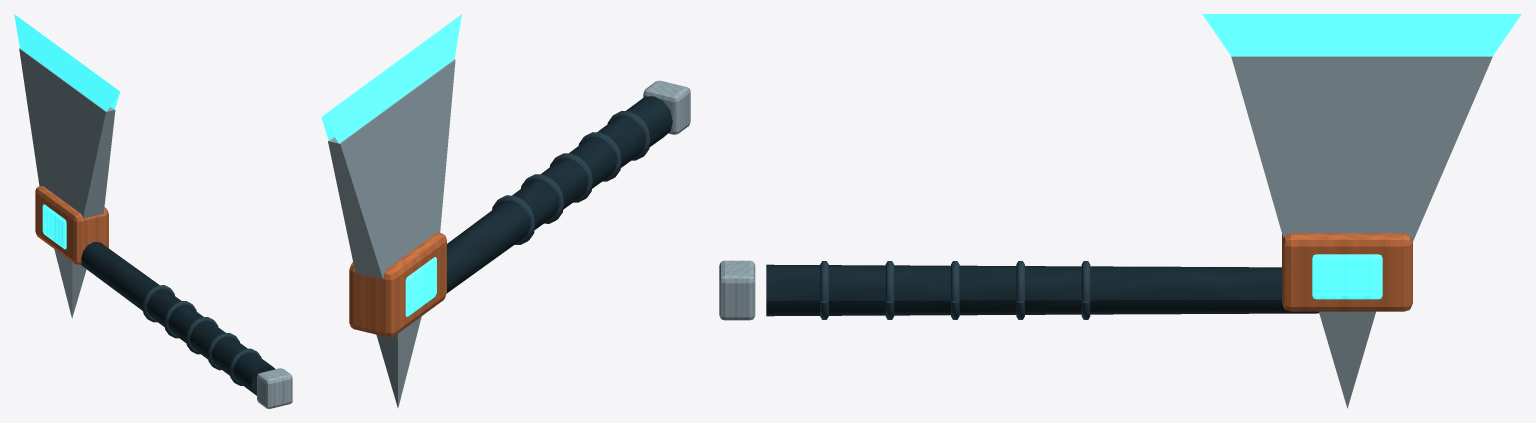
The model's file is weapon_axe.glb.
The picture shows the model from 3 angles, left to right: view 1: azimuth 30°, elevation 25°; view 2: azimuth 150°, elevation 25°; view 3: azimuth 270°, elevation 25°; orthographic projection. The views are drawn at different scales.
Visible parts, largest first — view 1: weapon_axe; view 2: weapon_axe; view 3: weapon_axe.
Boxes of the visible parts, bbox=[...] form: weapon_axe: bbox=[14, 14, 292, 408]; weapon_axe: bbox=[321, 14, 690, 408]; weapon_axe: bbox=[719, 14, 1521, 408].
Bounding box in the file's own units: 0.045 × 0.3 × 0.5525.
1 material, 1 textured.
